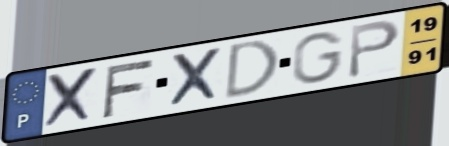D: (221, 38, 282, 103)
F: (100, 56, 157, 120)
G: (291, 30, 347, 86)
P: (345, 18, 403, 81)
X: (42, 65, 102, 131), (166, 45, 224, 110)
